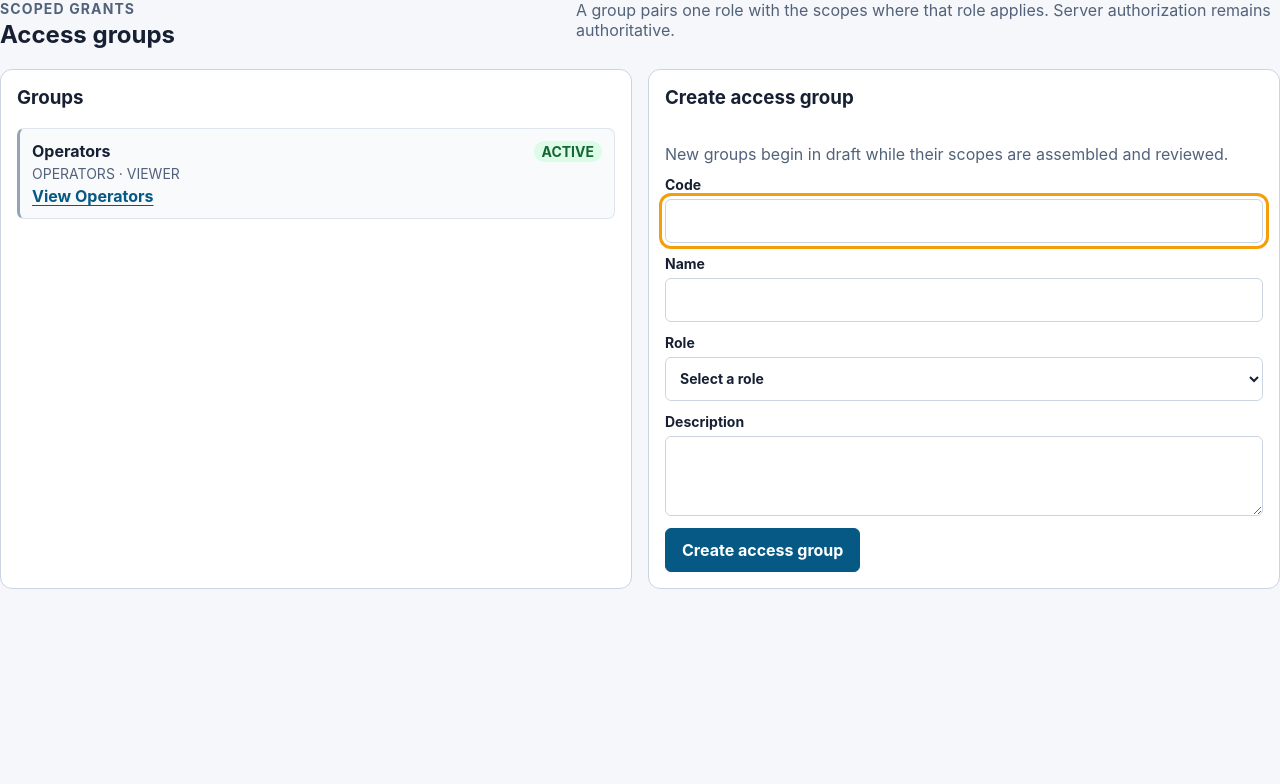
Scenario: AccessGroupsPage › shows an error when disabling a group fails
The width and height of the screenshot is (1280, 784).
Click the button "View Operators".
click(93, 196)  # box [32, 186, 154, 206]
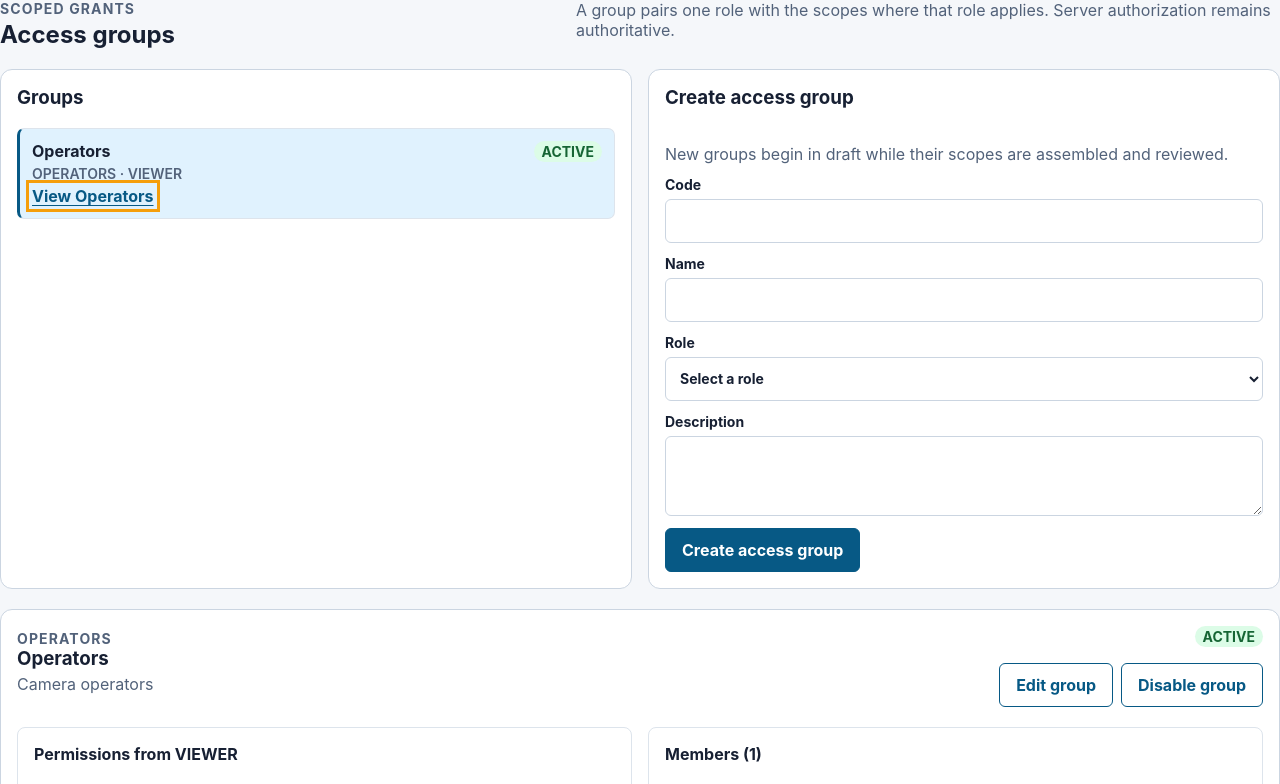
Click the button "Disable group".
click(1192, 685)  # box [1121, 663, 1263, 707]
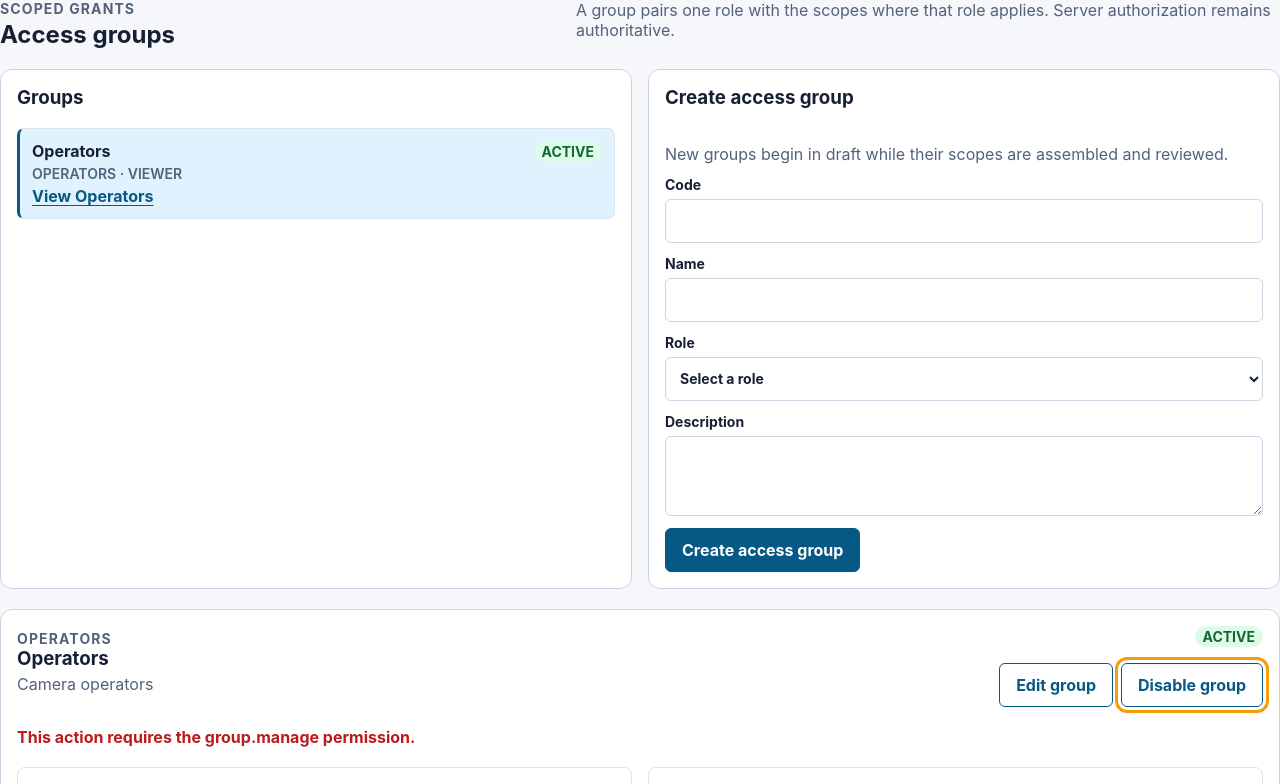
Result: the text "This action requires the group.manage permission." is shown at [17, 727, 415, 747]
